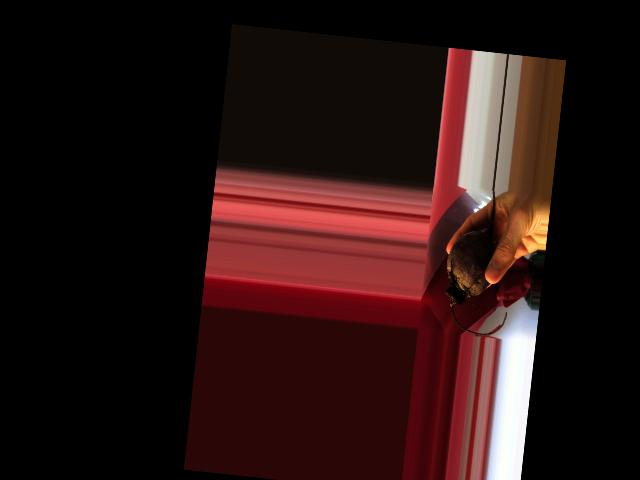beet: (439, 185, 520, 338)
